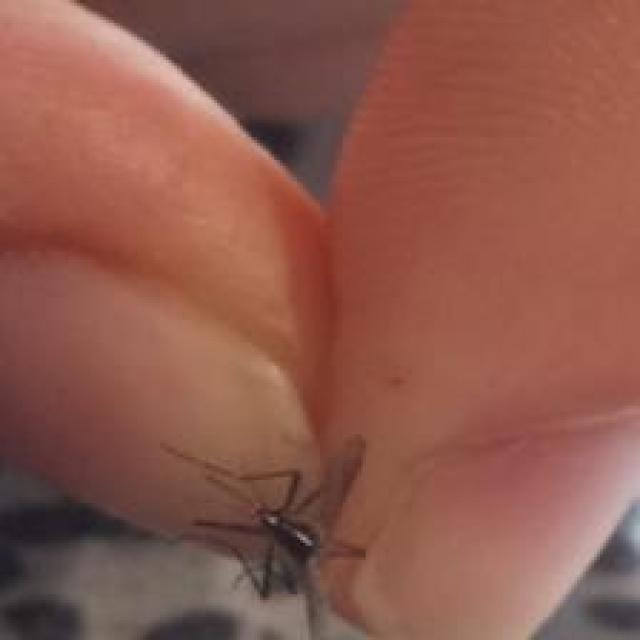Aedes albopictus: (158, 434, 373, 640)
